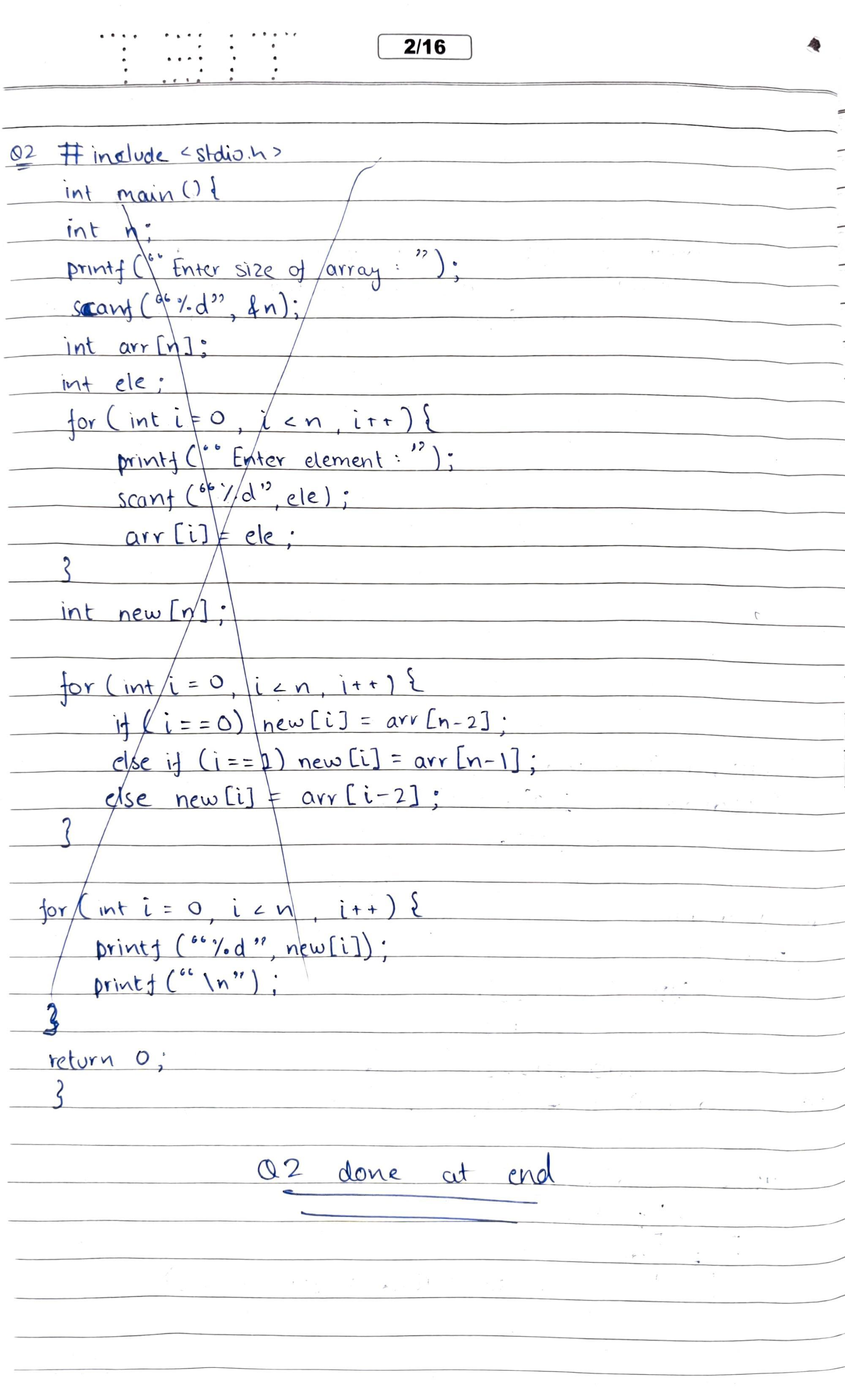cuttings: (3, 131, 543, 1116)
